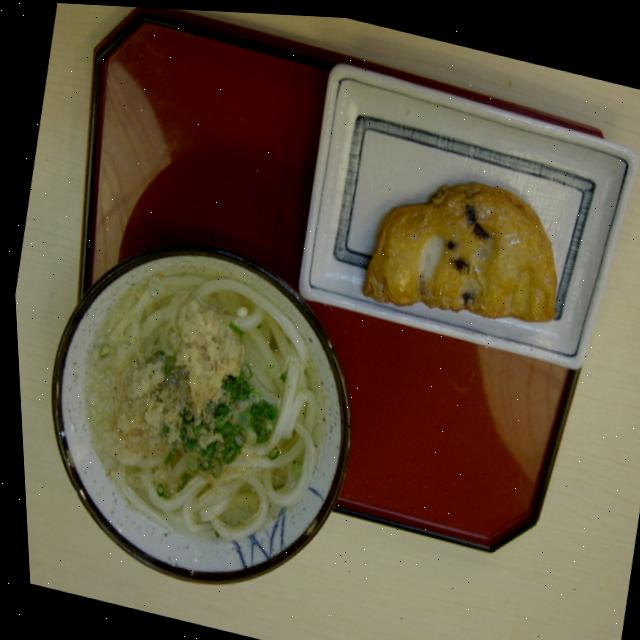面条主食: (36, 220, 372, 603)
